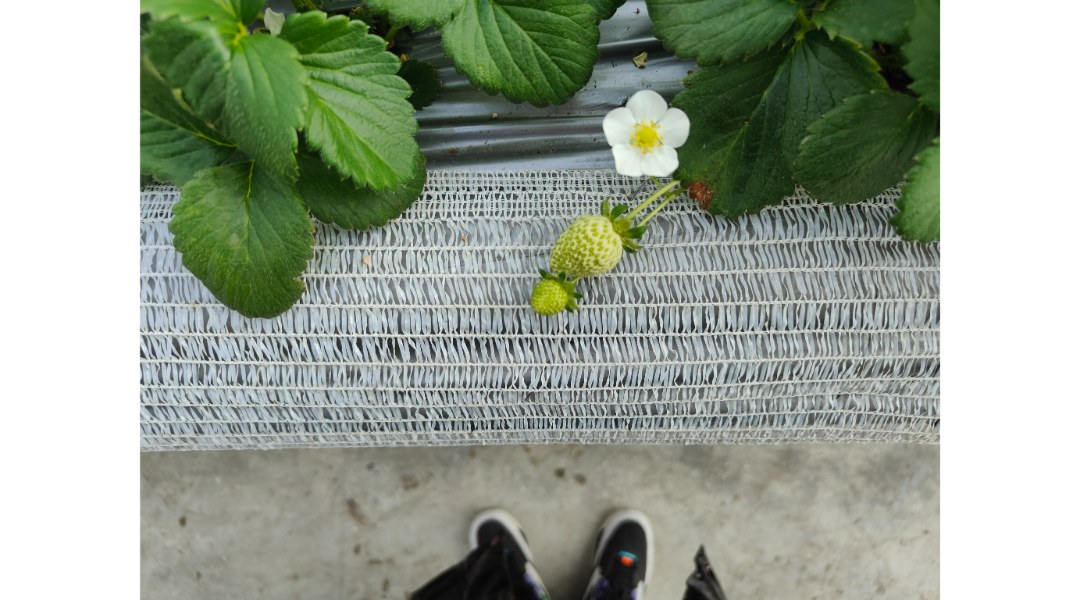berry: (549, 201, 642, 283), (519, 270, 576, 321)
flower: (594, 80, 696, 179)
